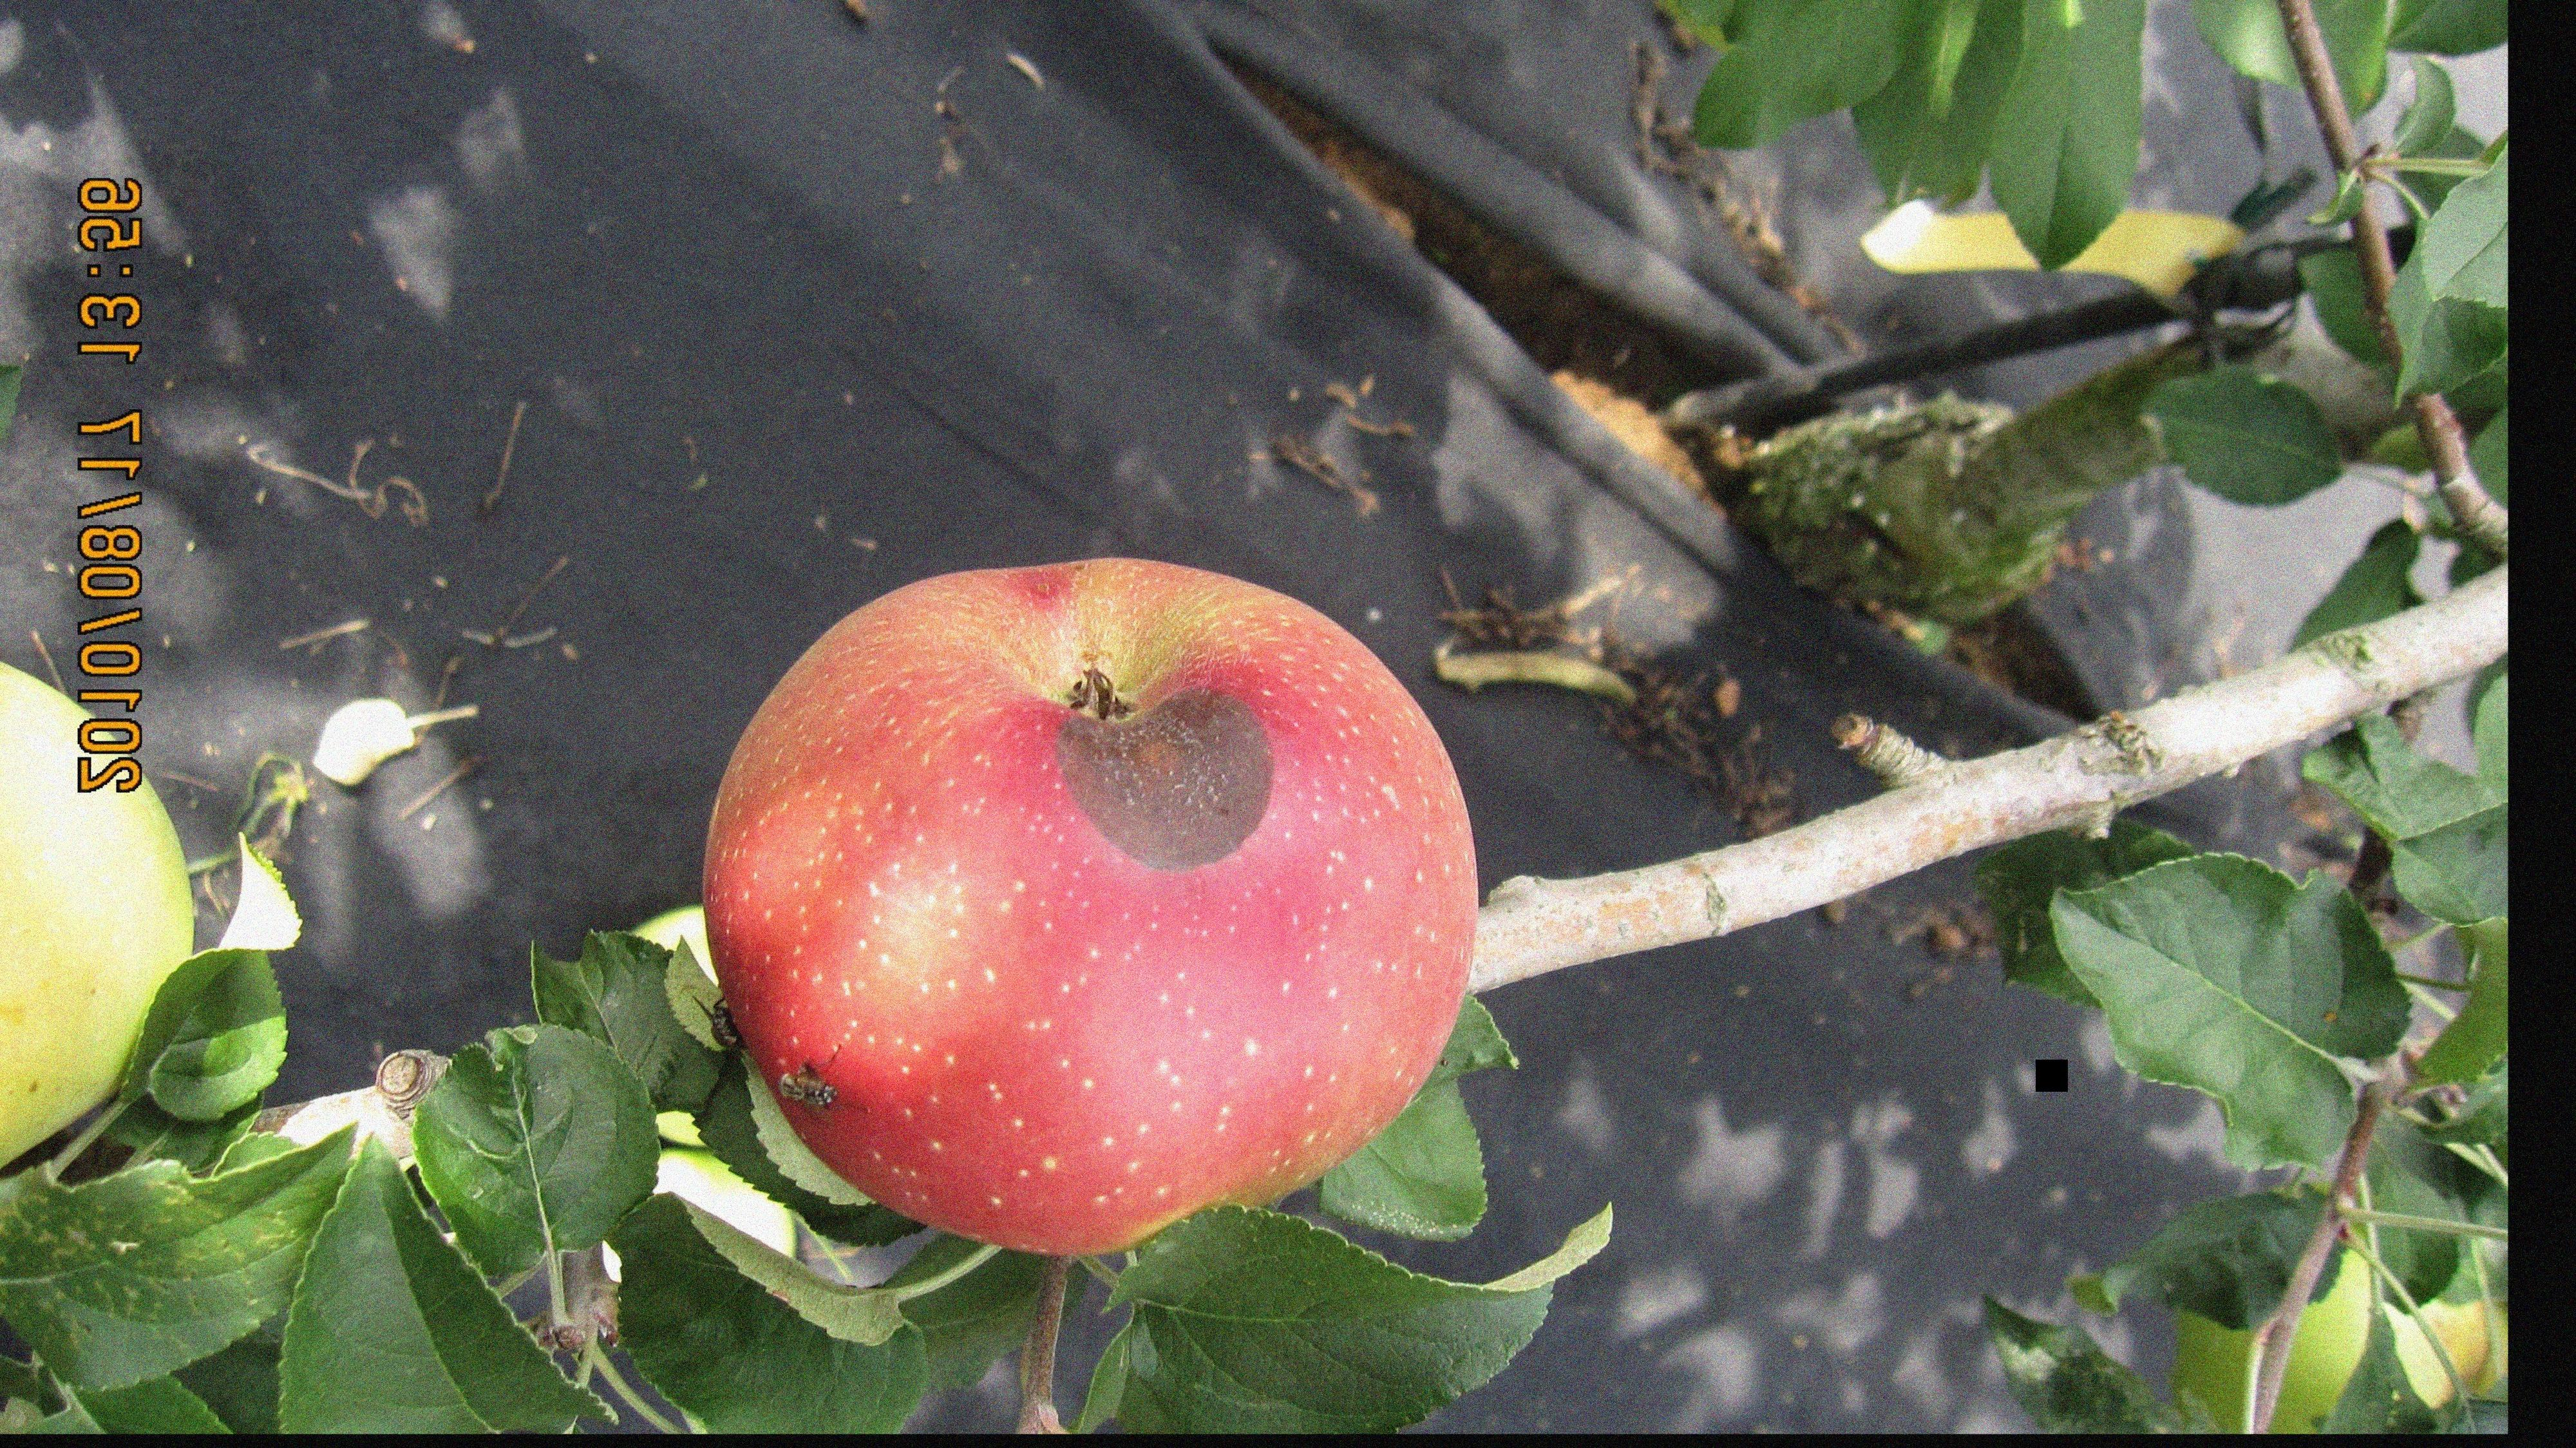rotten apple: (672, 559, 1499, 1269)
